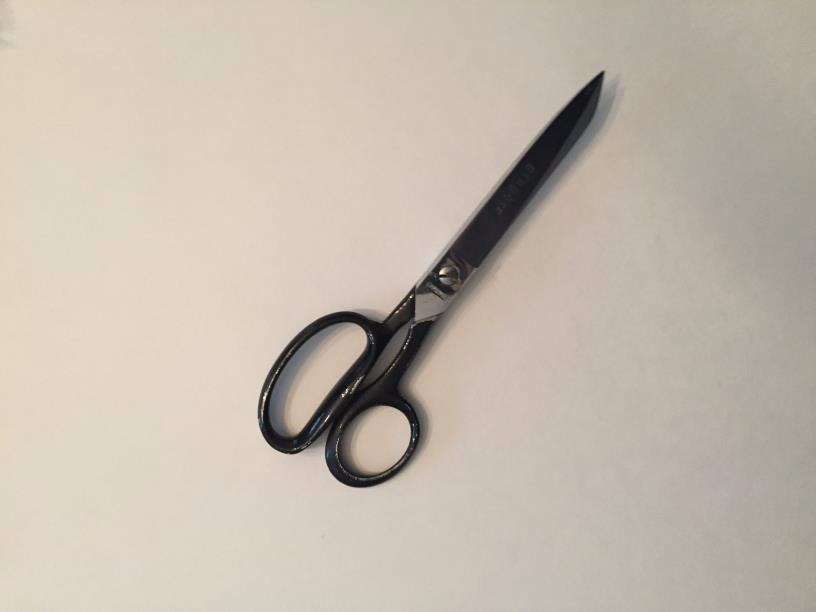scissor: (234, 32, 643, 511)
